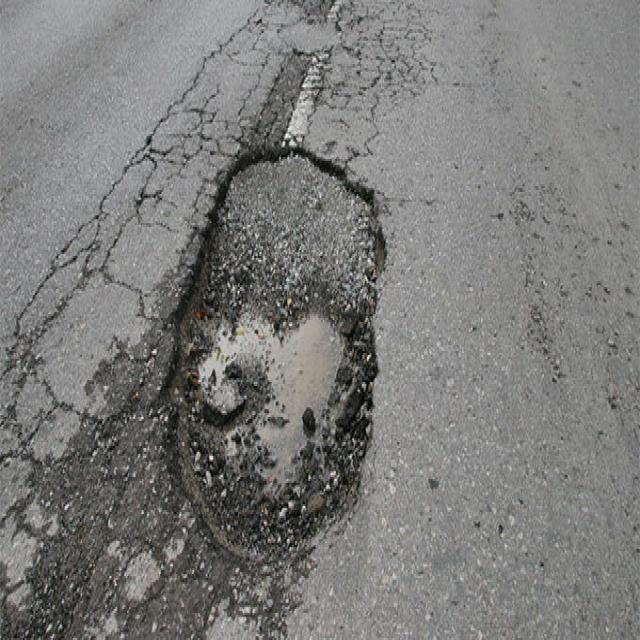Buraco: (149, 140, 394, 581)
